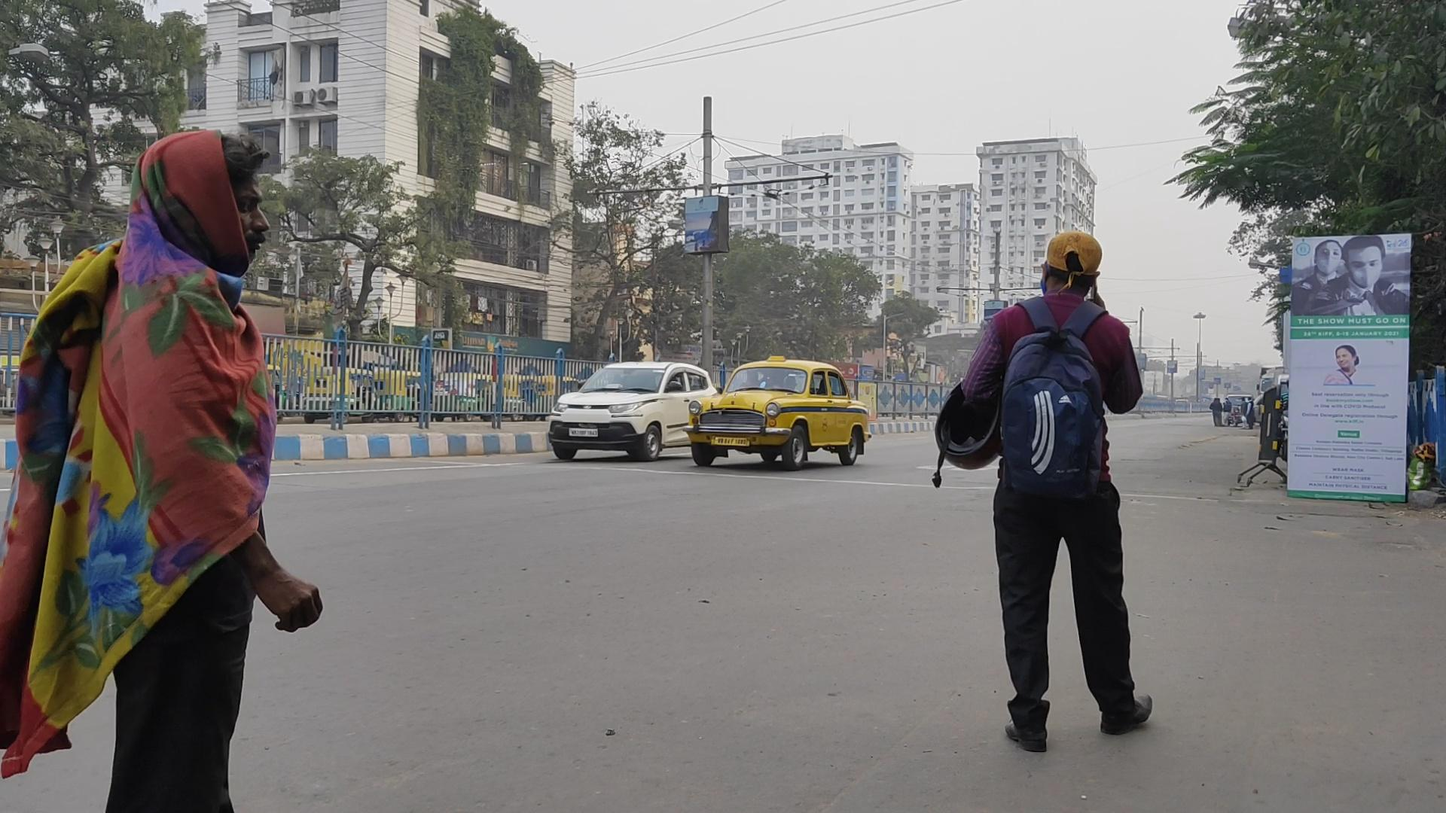car: (685, 354, 874, 472), (548, 360, 718, 464)
